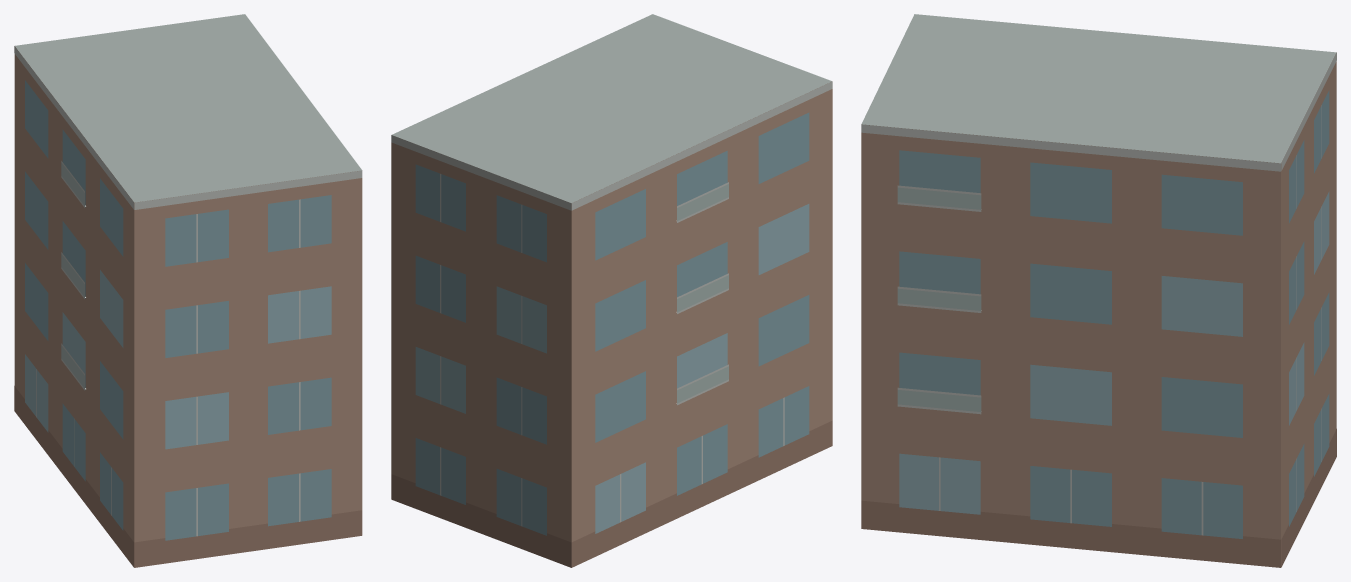
File: survey-upis-33025394.glb
3 renders of one model, left to right at view 1: azimuth 30°, elevation 25°; view 2: azimuth 150°, elevation 25°; view 3: azimuth 270°, elevation 25°, orthographic. The views are drawn at different scales.
Visible parts, largest first — view 1: survey-upis-33025394.tmp; view 2: survey-upis-33025394.tmp; view 3: survey-upis-33025394.tmp.
Part boxes in pixels (left/top/right/bottom): survey-upis-33025394.tmp: left=14, top=14, right=362, bottom=567; survey-upis-33025394.tmp: left=391, top=14, right=832, bottom=567; survey-upis-33025394.tmp: left=861, top=14, right=1336, bottom=567.
Size of the model in its own units: 9.35 by 11.8 by 12.58.
